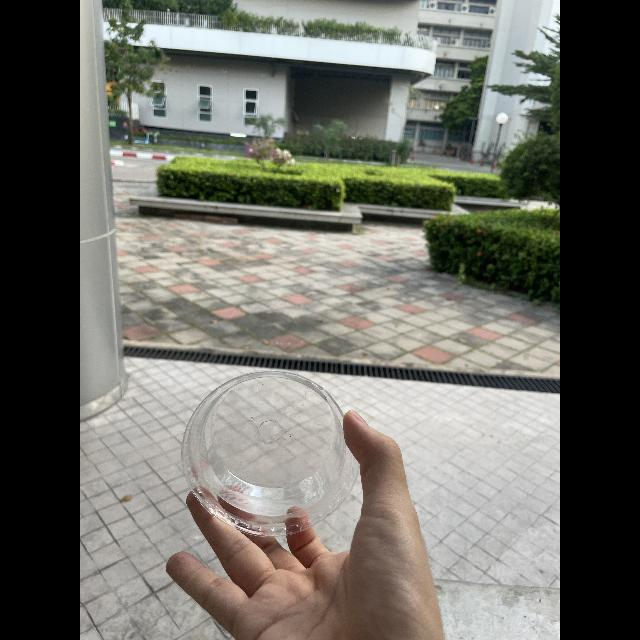plastic_cup_lid: (180, 366, 360, 550)
